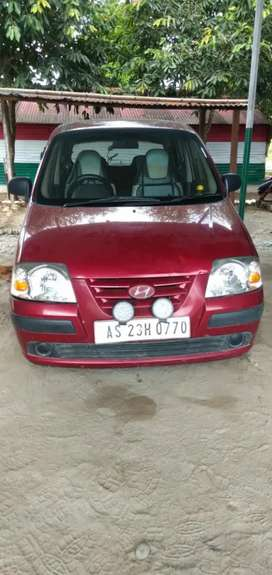AS23H0770: (94, 316, 189, 346)
